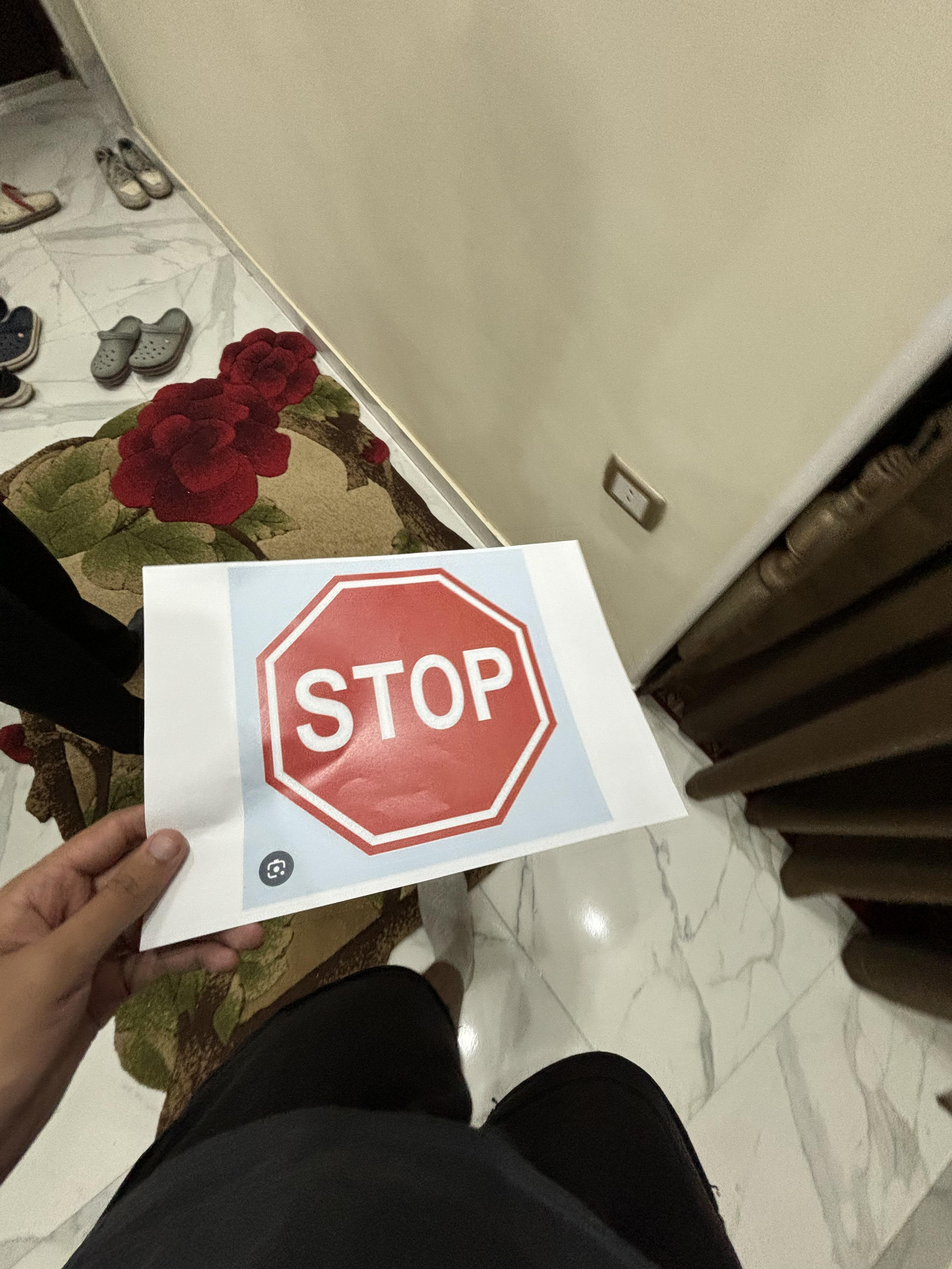Stop: (251, 558, 555, 858)
